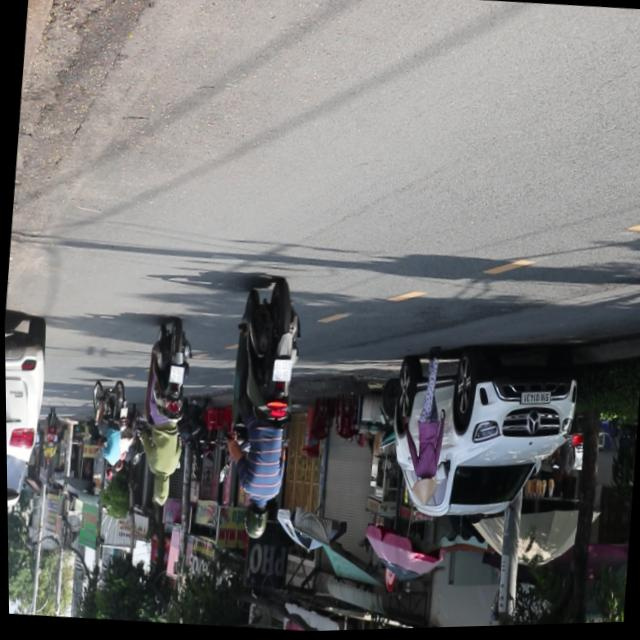helmet: (239, 501, 267, 542), (149, 475, 169, 506)
licenseplate: (213, 277, 307, 546), (131, 318, 196, 509)
nohelmet: (270, 359, 291, 384), (167, 365, 183, 384)
